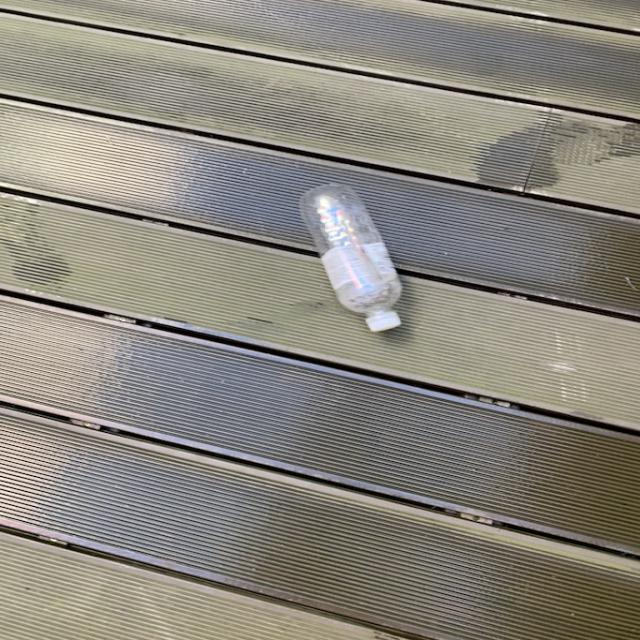Waste: (301, 185, 401, 332)
